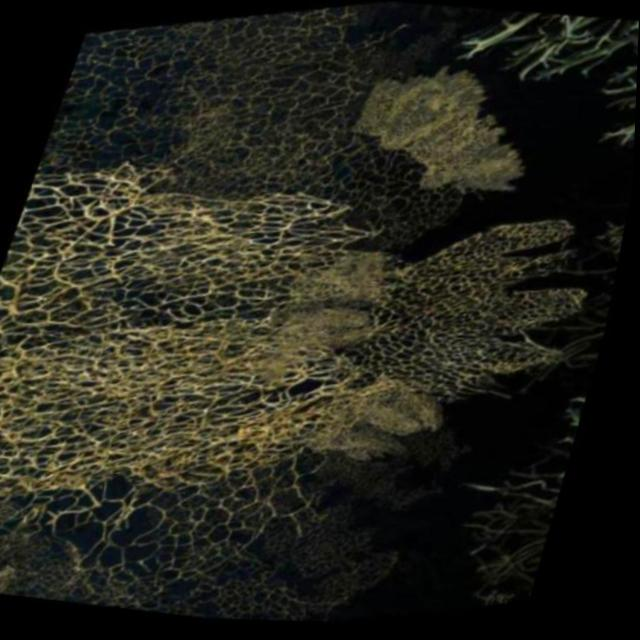Dead Coral: (0, 52, 618, 636)
